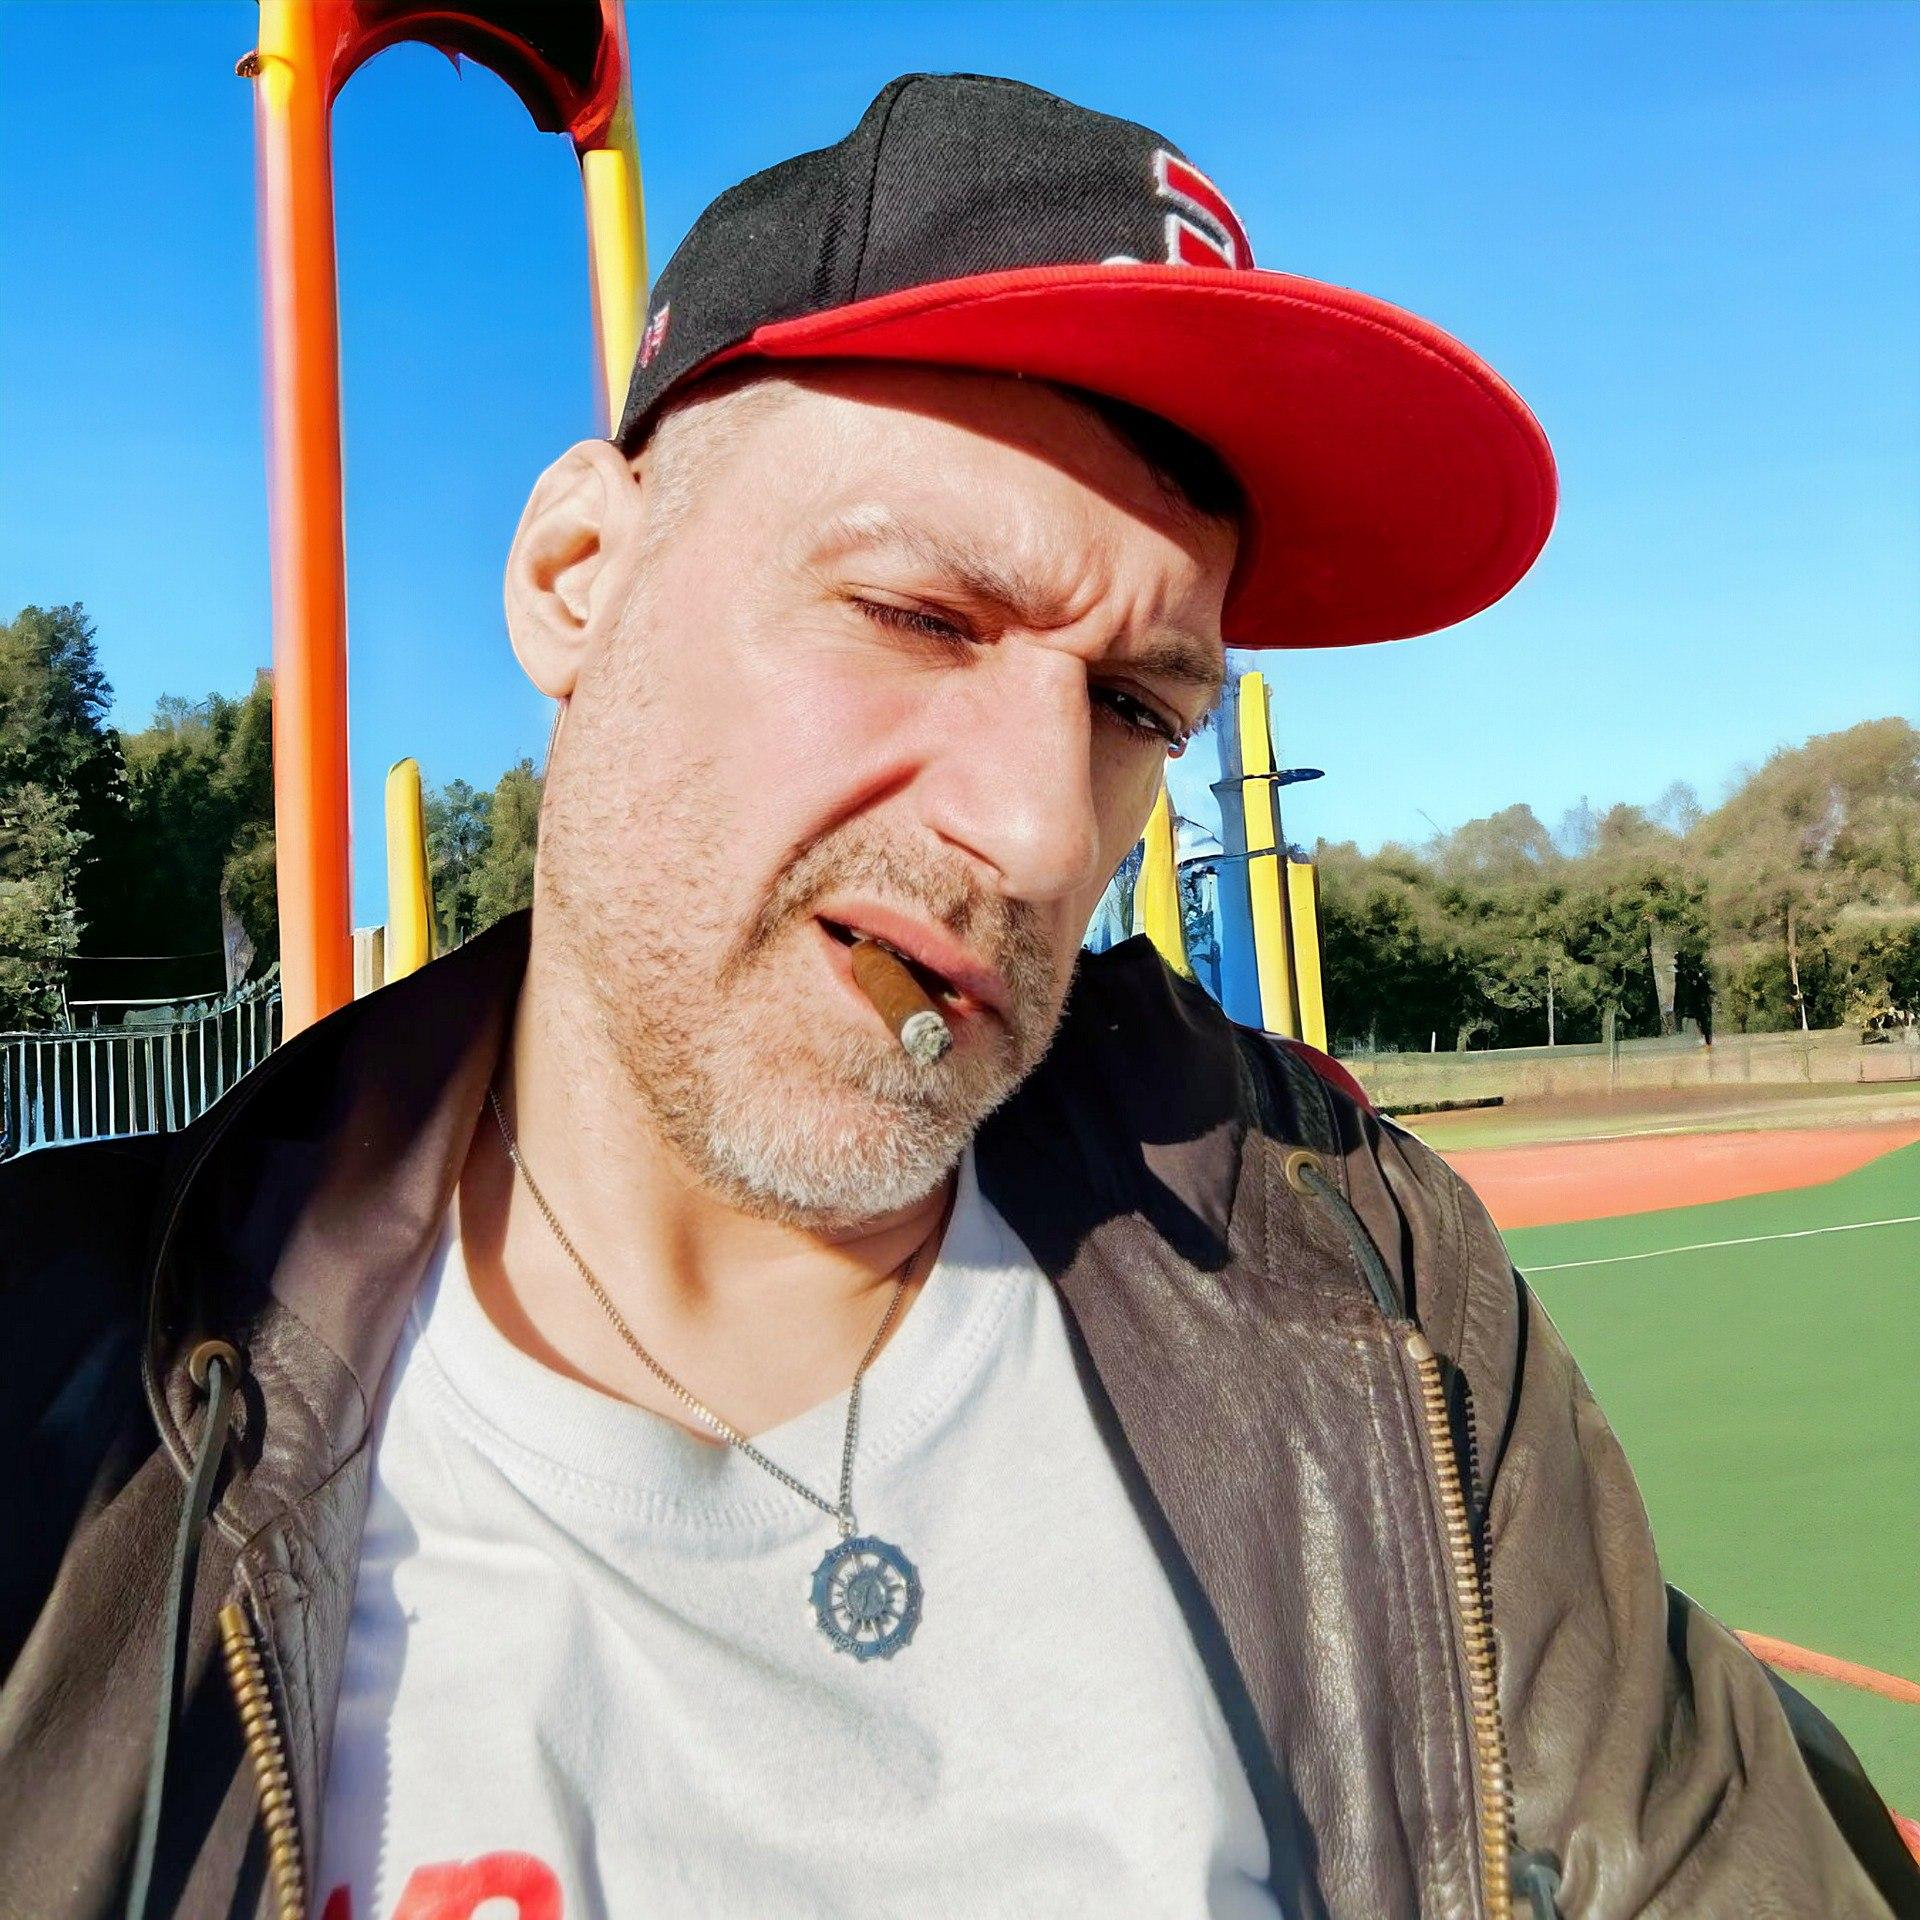cigarette: (849, 941, 955, 1069)
